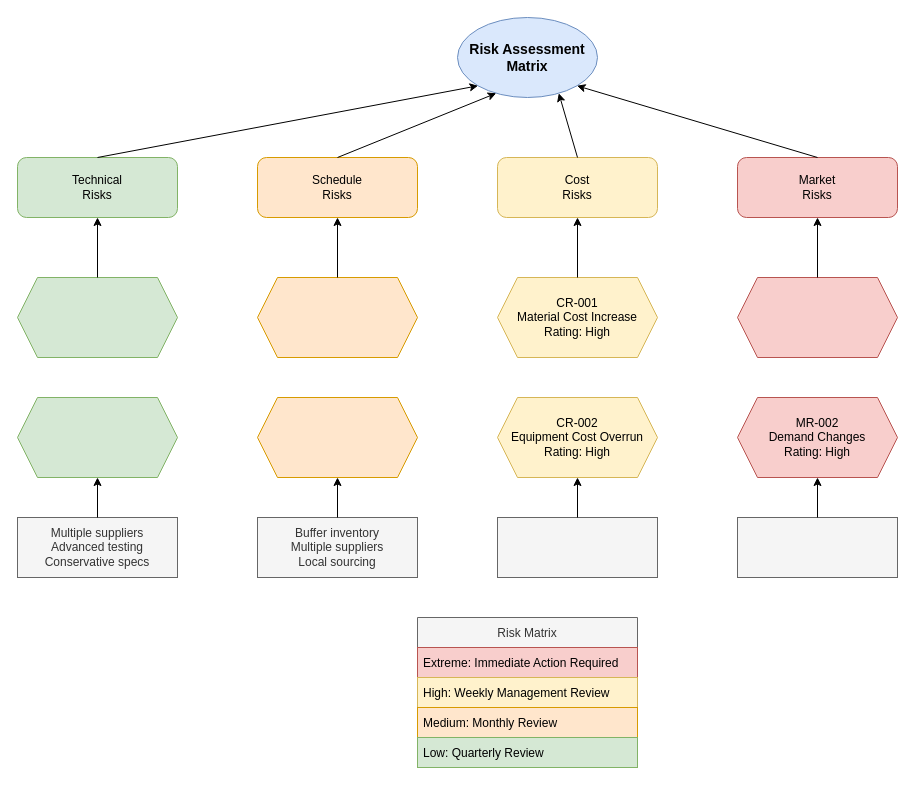
Image size: 915x785. Some labels were removed from this diagram. Each missing label, with the box of its shape:
Feature differentiation Strong brand strategy Market monitoring: (736, 516, 898, 578)
Long-term contracts Hedging strategy Cost monitoring: (496, 516, 658, 578)
MR-001 Competition Entry Rating: High: (736, 276, 898, 358)
SR-001 Supply Chain Delays Rating: High: (256, 276, 418, 358)
SR-002 Regulatory Approval Rating: High: (256, 396, 418, 478)
TR-001 Battery Performance Rating: Extreme: (16, 276, 178, 358)
TR-002 Software Integration Rating: High: (16, 396, 178, 478)
